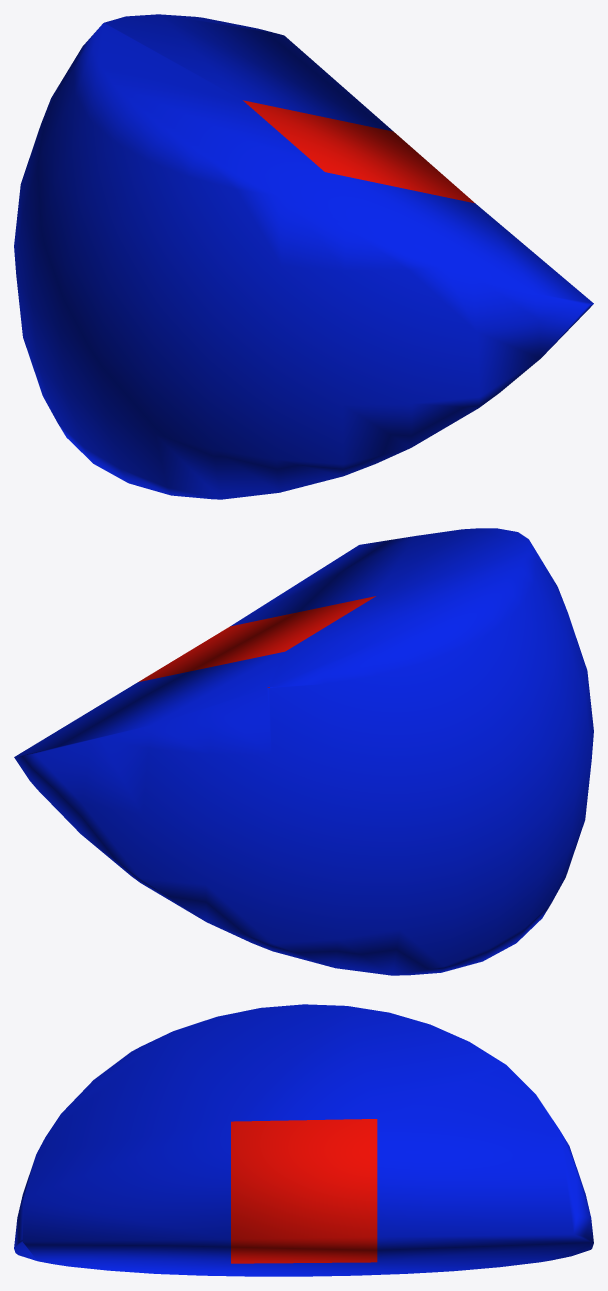
The model's file is Orbe_PlayStation_F4.fbx.
3 views of the same model, one above another, from view 1: azimuth 30°, elevation 25°; view 2: azimuth 150°, elevation 25°; view 3: azimuth 270°, elevation 25° (orthographic). The views are drawn at different scales.
Visible parts, largest first — view 1: Orbe_PlayStation_F4; view 2: Orbe_PlayStation_F4; view 3: Orbe_PlayStation_F4.
Part boxes in pixels (x1,y1,x2,y2): Orbe_PlayStation_F4: [14, 14, 593, 499]; Orbe_PlayStation_F4: [14, 528, 593, 975]; Orbe_PlayStation_F4: [14, 1004, 593, 1276].
Size of the model in its own units: 126 by 109 by 198.
